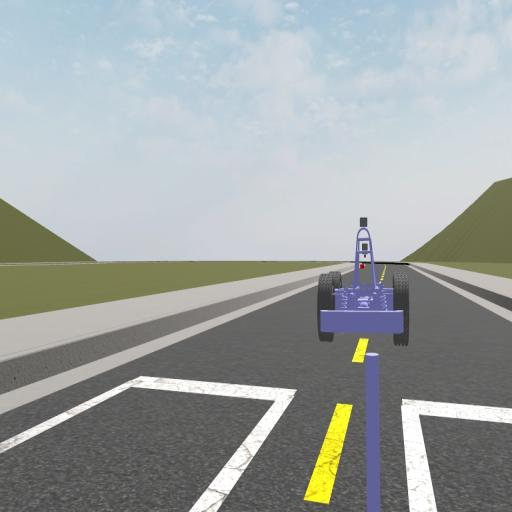ERP-42: (317, 217, 409, 346)
